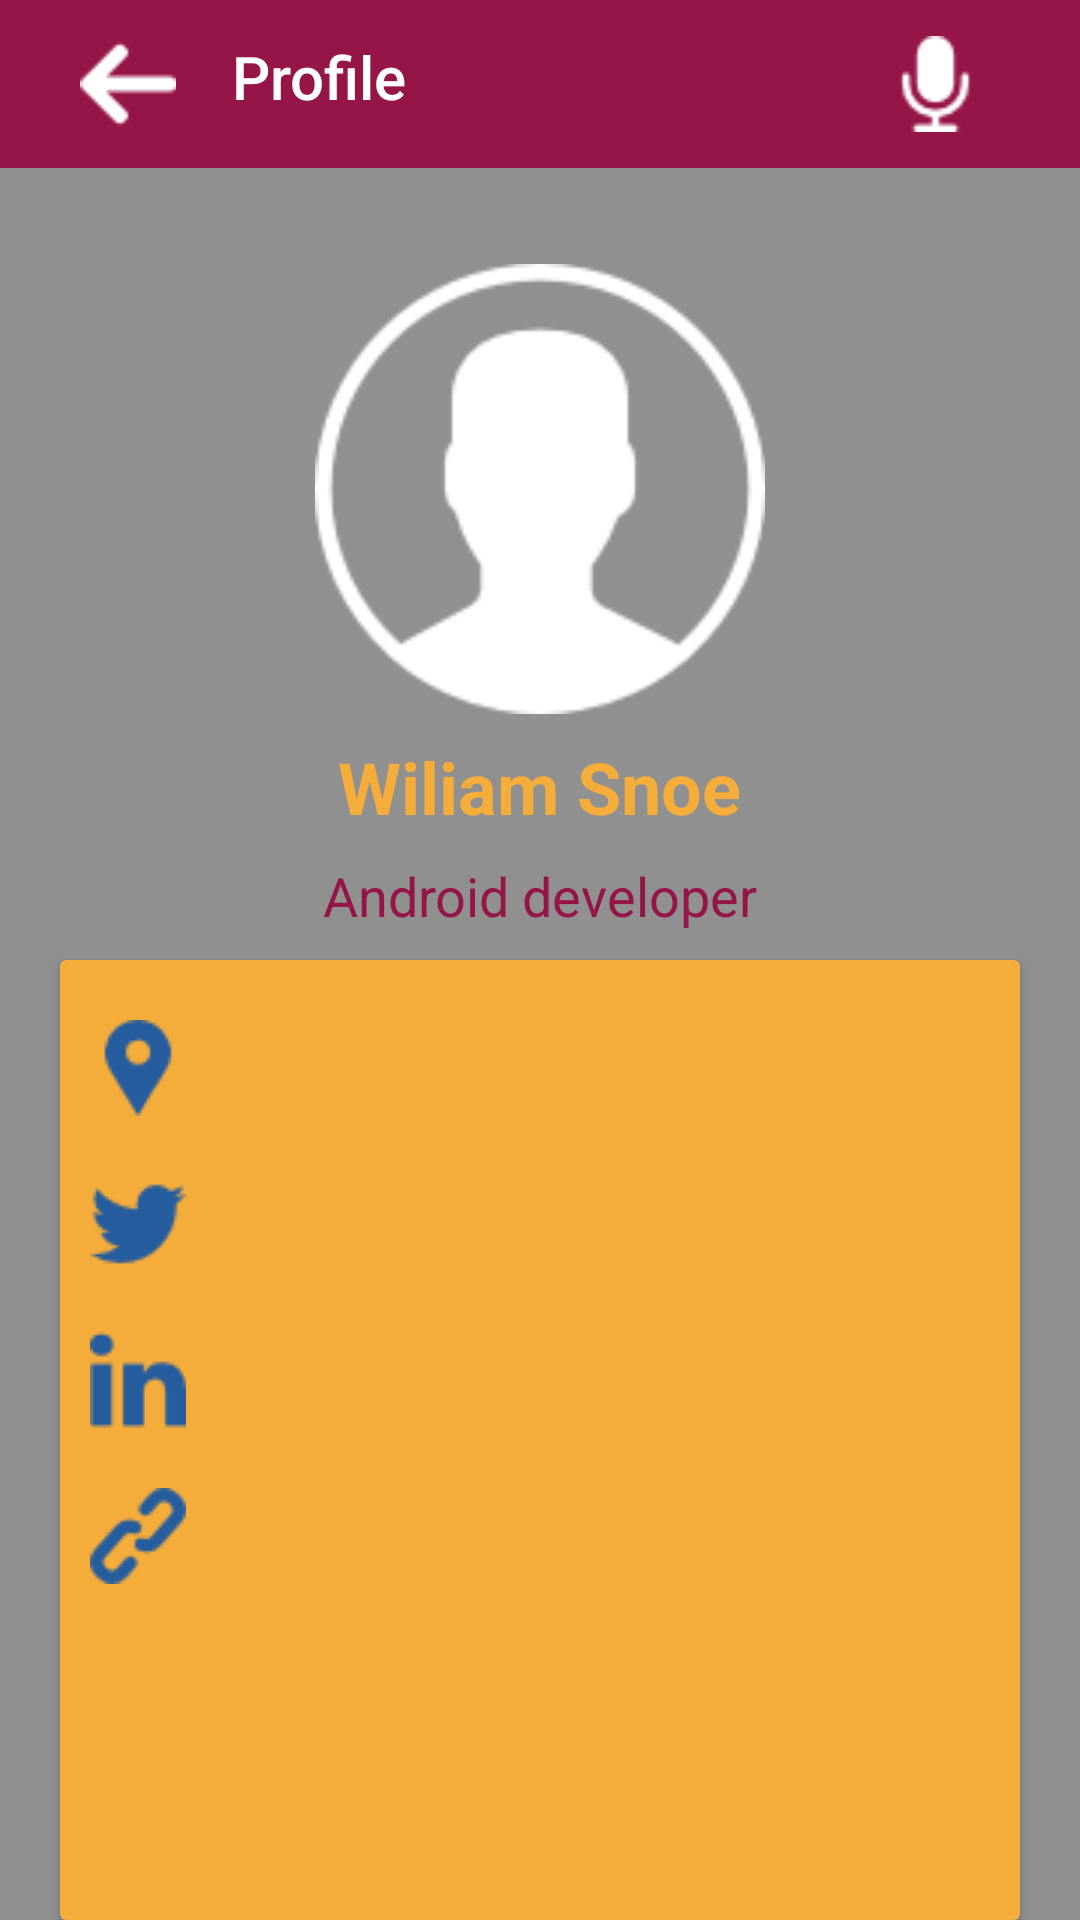

Icons on this 1080px×1920px Android screen, each with its box as (x1, y1, x2, y2):
left: (80, 42, 176, 126)
map: (104, 1020, 172, 1116)
website: (90, 1488, 186, 1584)
